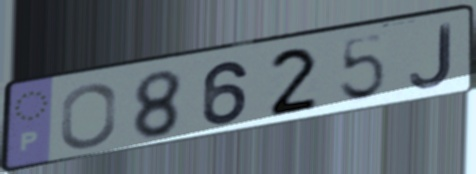2: (266, 45, 323, 119)
5: (335, 30, 389, 104)
6: (200, 59, 251, 127)
8: (129, 67, 186, 141)
J: (407, 20, 454, 91)
O: (58, 80, 120, 151)
